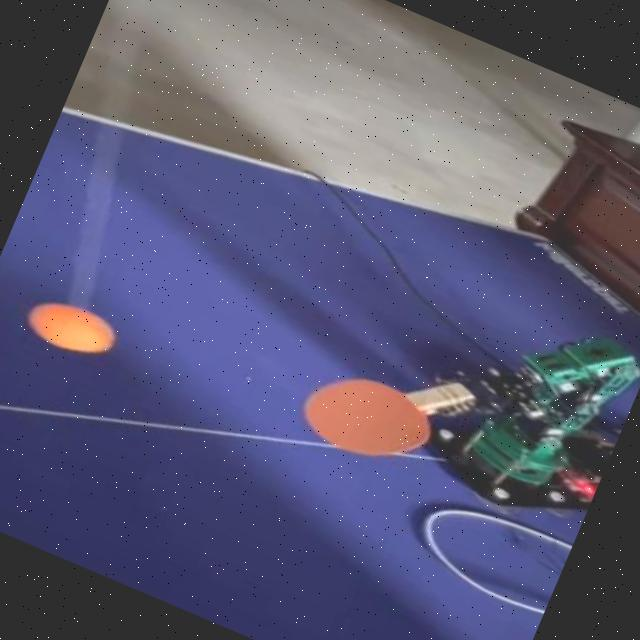ping-pong-ball: (27, 296, 115, 361)
